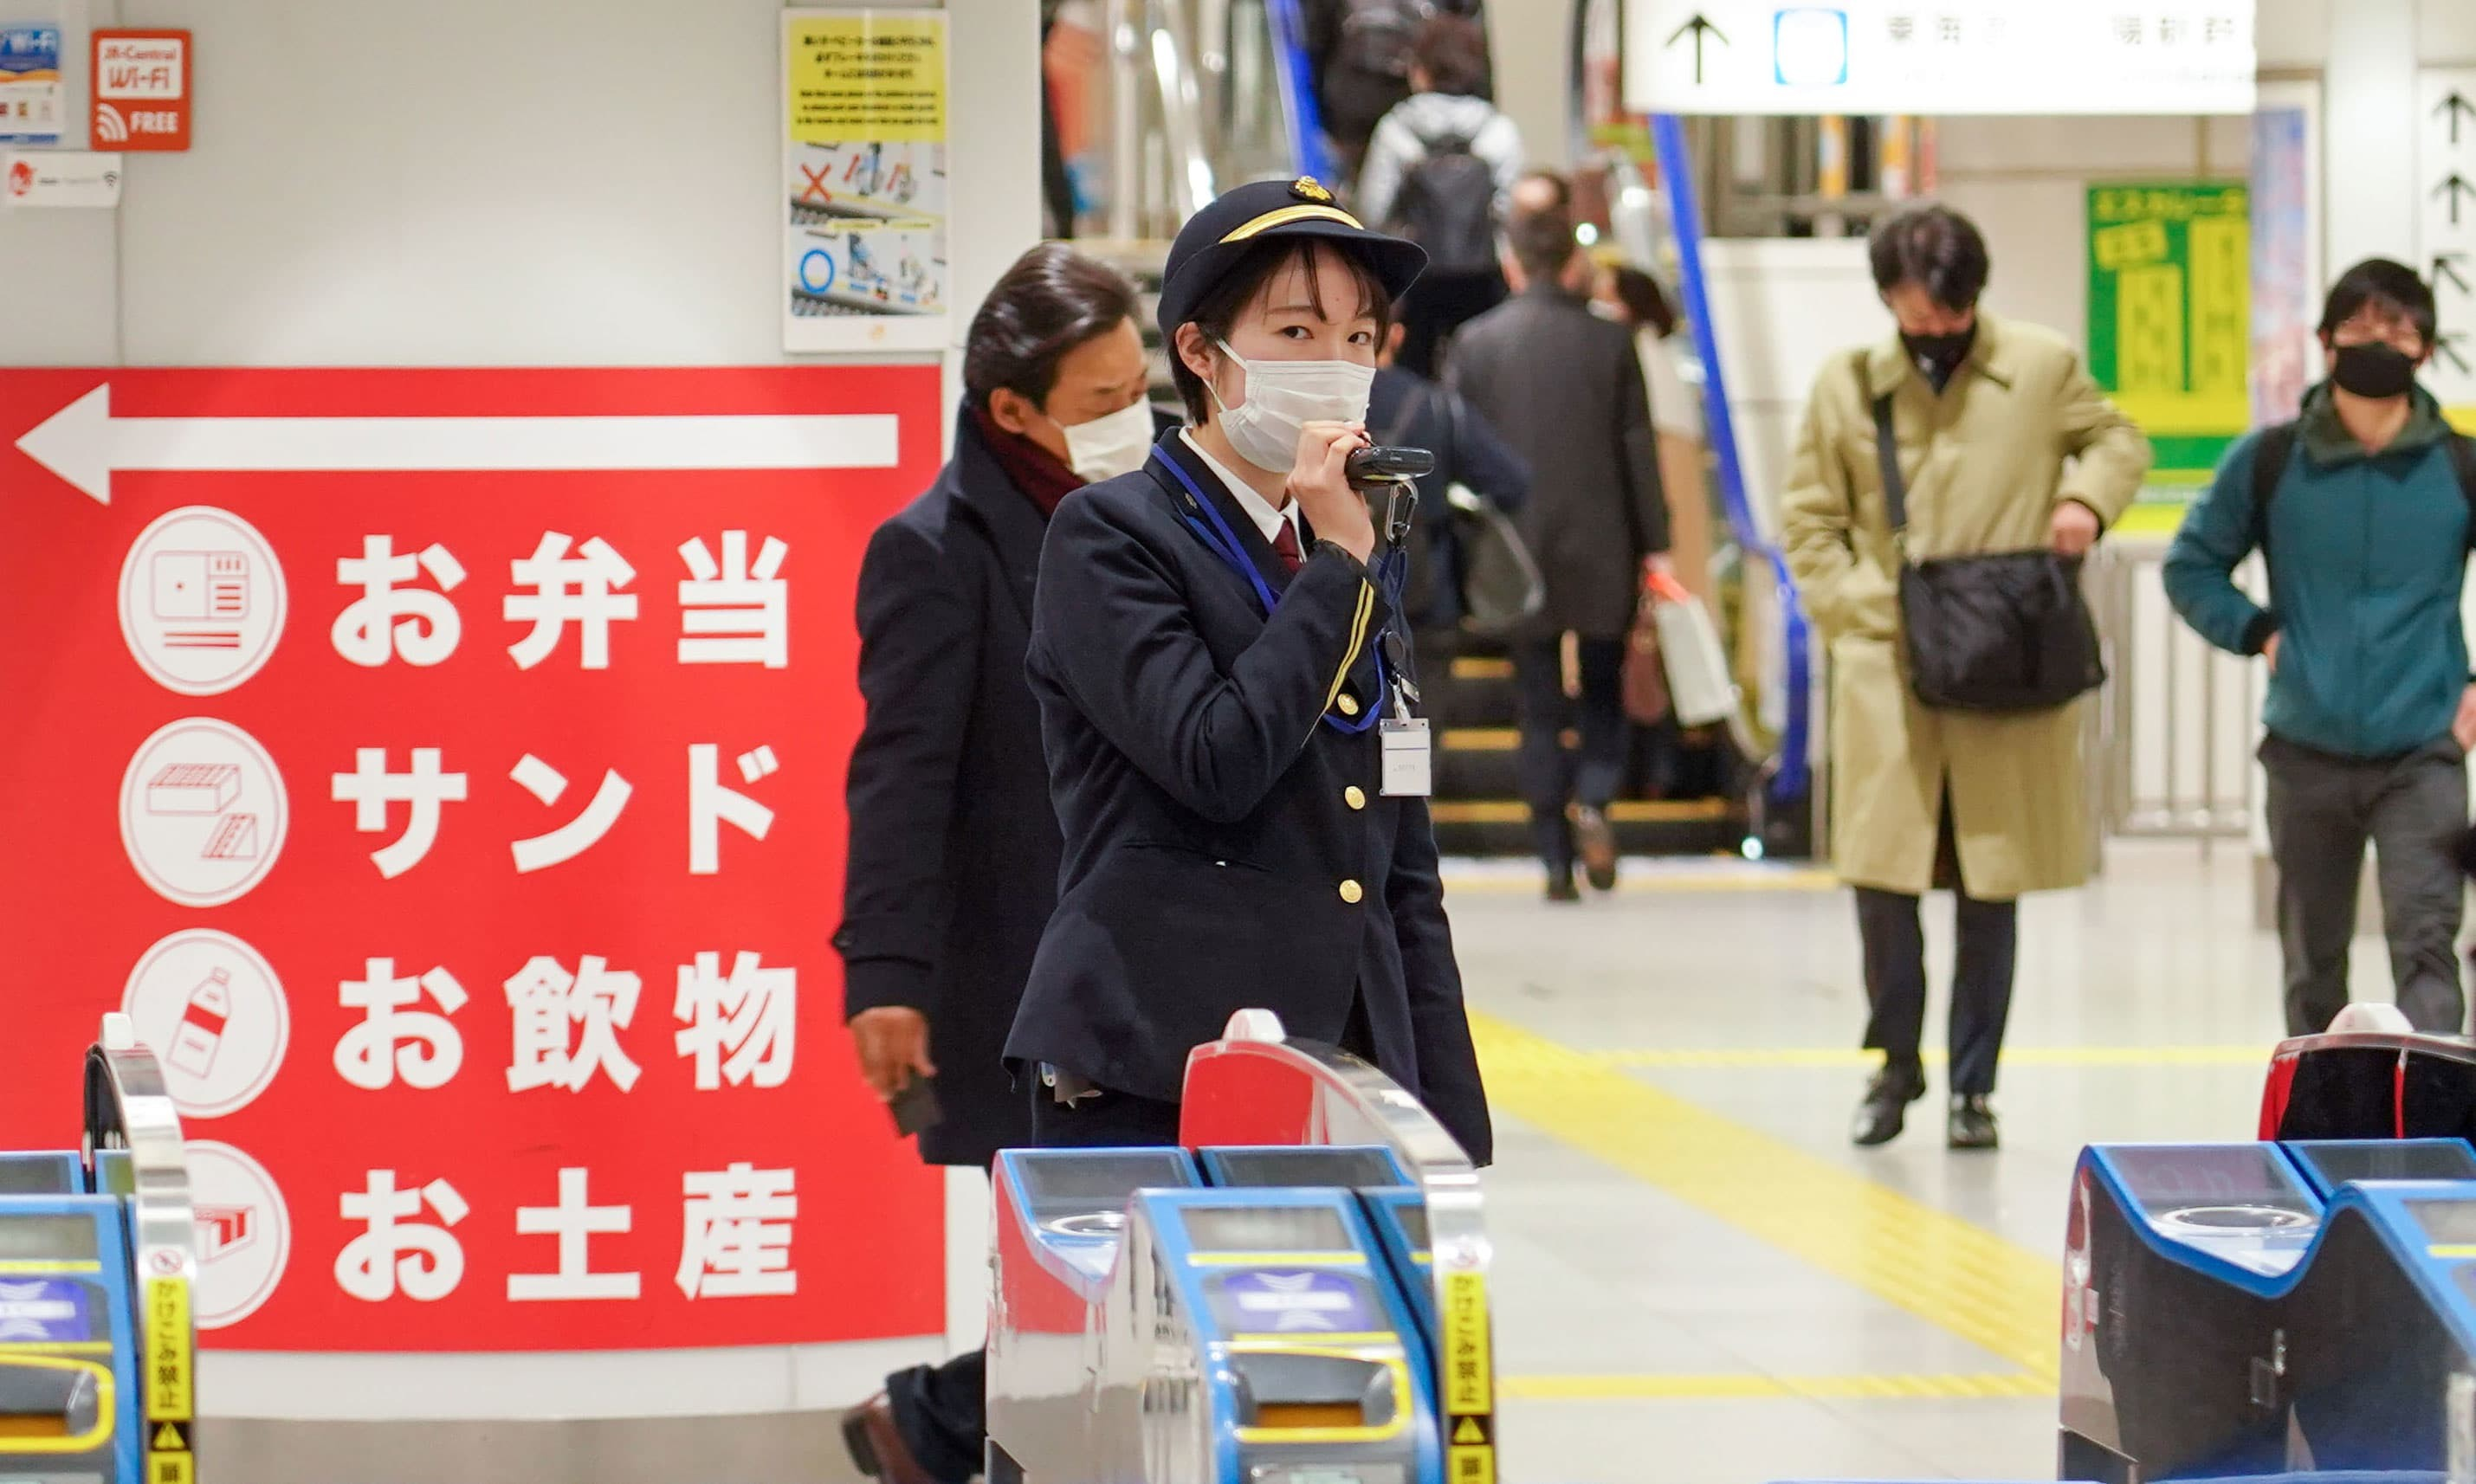with_mask: (1216, 297, 1377, 487), (1043, 371, 1157, 490), (2326, 313, 2426, 410), (1890, 295, 1982, 393)
